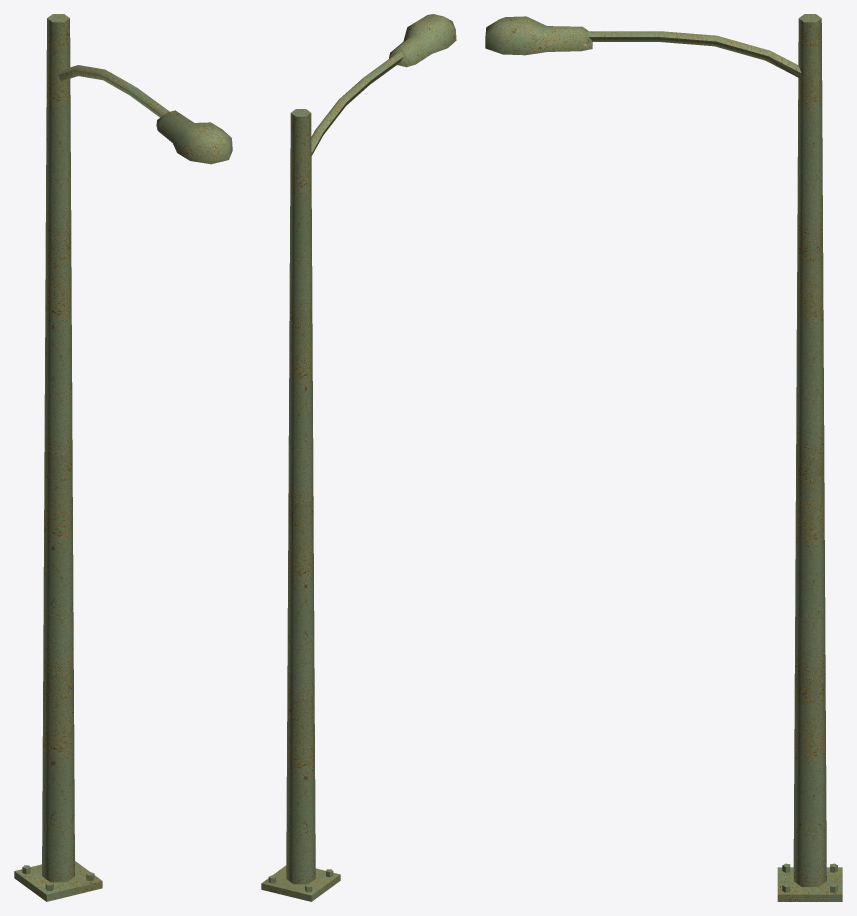
The model's file is Lamppost.dae.
The picture shows the model from 3 angles, left to right: view 1: azimuth 30°, elevation 25°; view 2: azimuth 150°, elevation 25°; view 3: azimuth 270°, elevation 25°; orthographic projection. The views are drawn at different scales.
Parts seen in each view (by area): view 1: Lamppost; view 2: Lamppost; view 3: Lamppost.
Part boxes in pixels (left/top/right/bottom): Lamppost: left=14, top=14, right=232, bottom=901; Lamppost: left=261, top=14, right=456, bottom=901; Lamppost: left=485, top=14, right=842, bottom=901.
Bounding box in the file's own units: 0.6385 × 3.5 × 9.4.
Materials: 1 (1 with a texture image).
